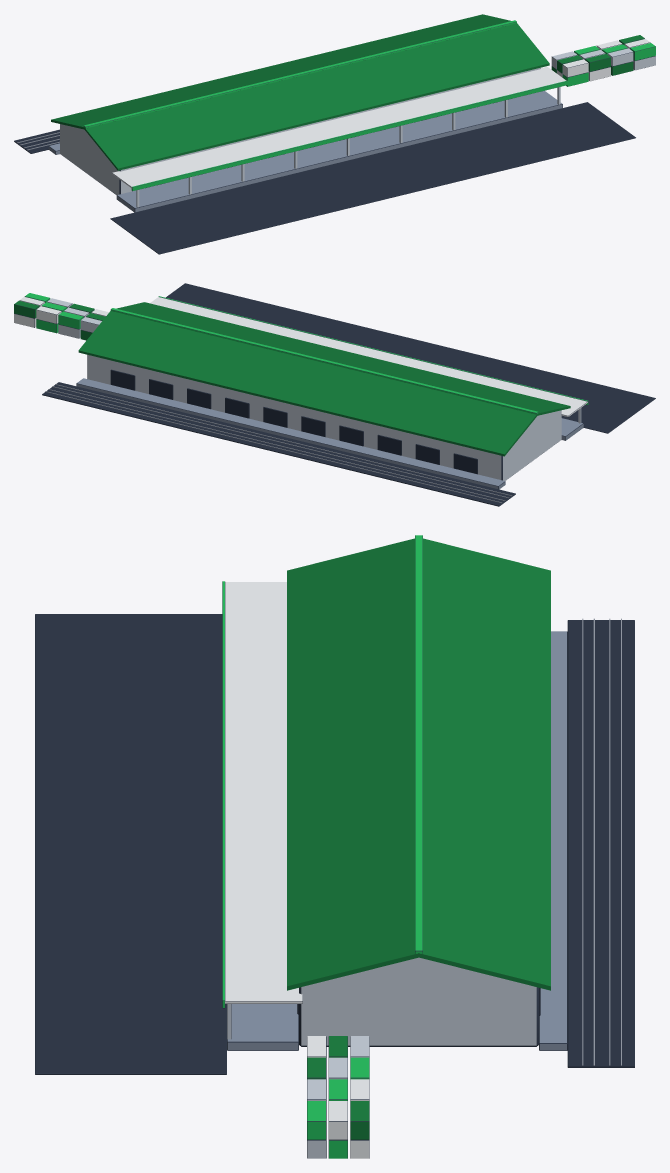
The model's file is terminal.glb.
3 views of the same model, one above another, from view 1: azimuth 30°, elevation 25°; view 2: azimuth 150°, elevation 25°; view 3: azimuth 270°, elevation 25° (orthographic). The views are drawn at different scales.
Parts seen in each view (by area): view 1: terminal; view 2: terminal; view 3: terminal.
Part boxes in pixels (x1,y1,x2,y2): terminal: (14,14,655,254); terminal: (14,283,655,506); terminal: (35,535,634,1158).
Size of the model in its own units: 161 by 14.1 by 75.
